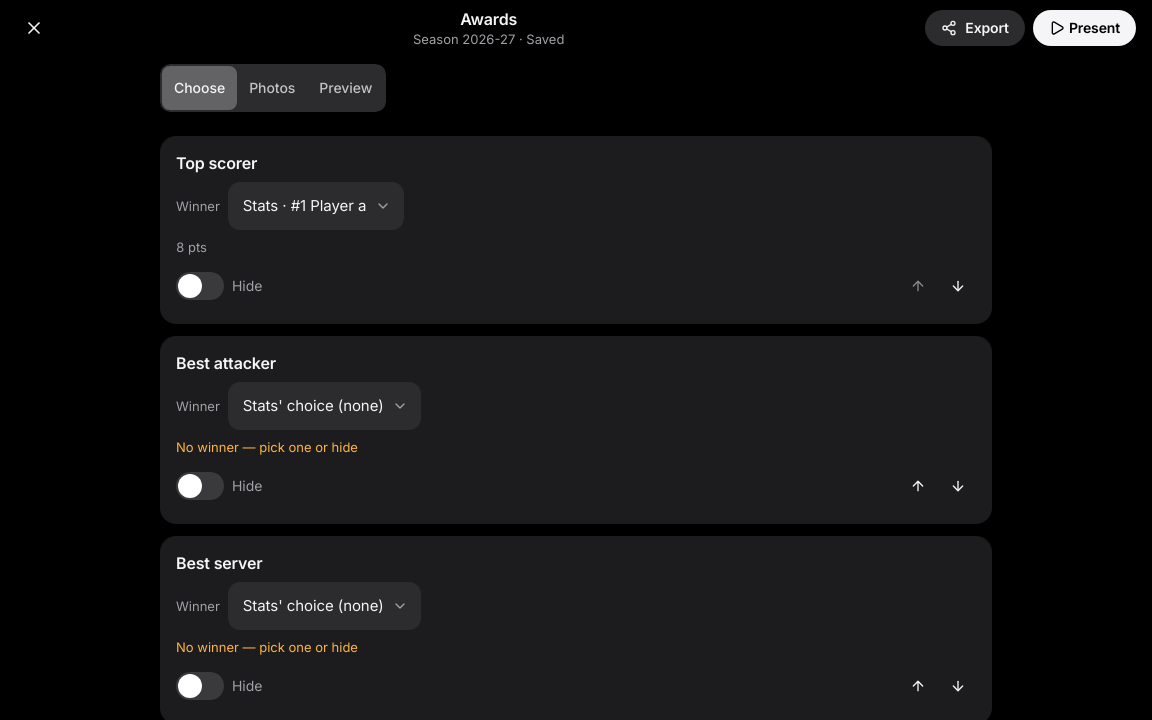
Test case: AwardsPage › Present switches to the ceremony and Escape returns
expect the element "Best attacker" is shown: met, box [160, 336, 992, 524]
Click the button "Present" at (1084, 28), box [1033, 10, 1136, 46]
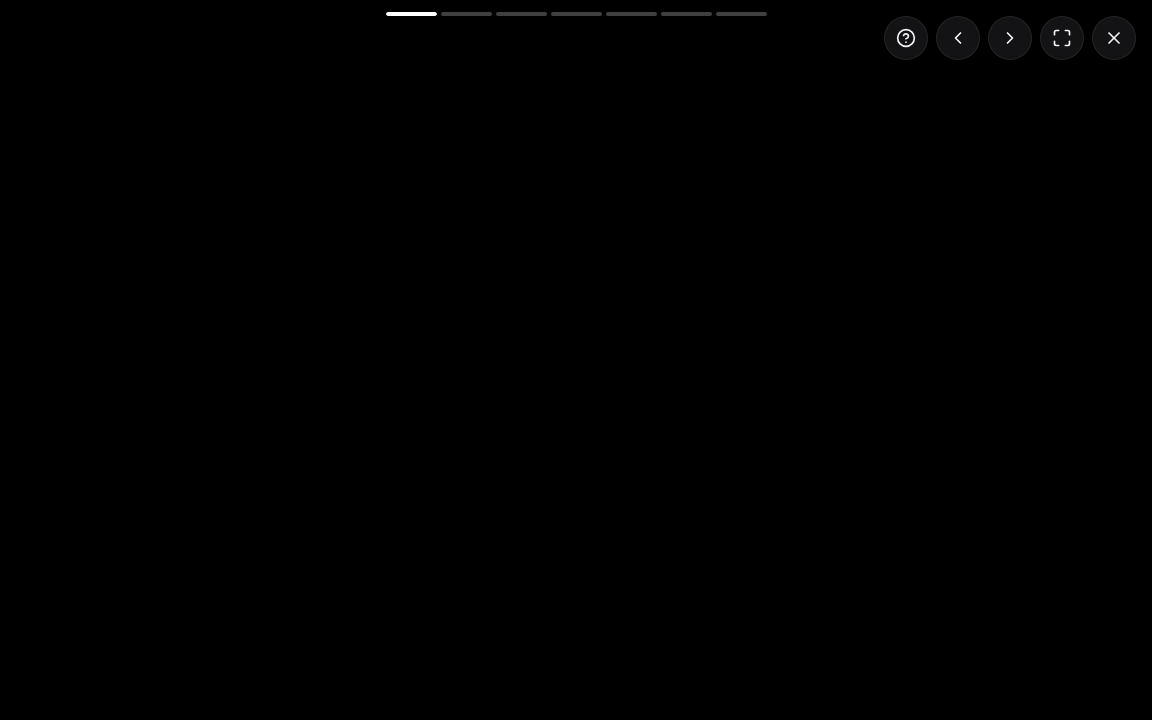
expect the button named "Exit presentation" is shown: met, box [1092, 16, 1136, 60]
Press Escape
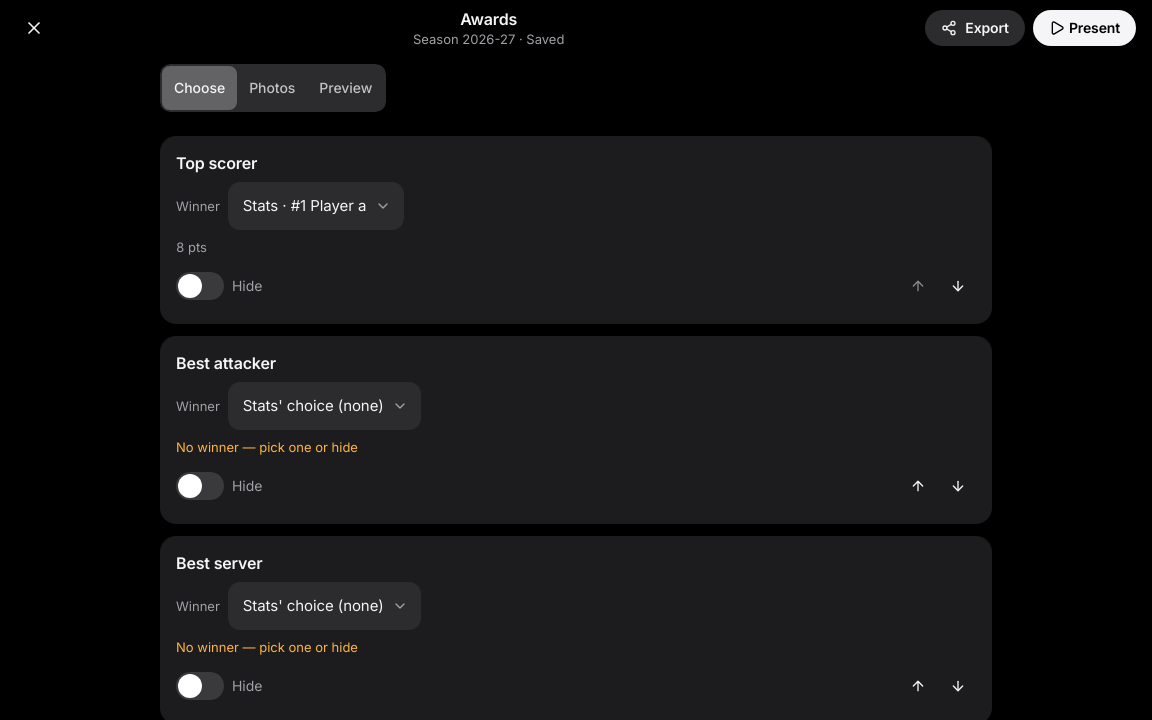
expect the element "Best attacker" is shown: met, box [160, 336, 992, 524]
